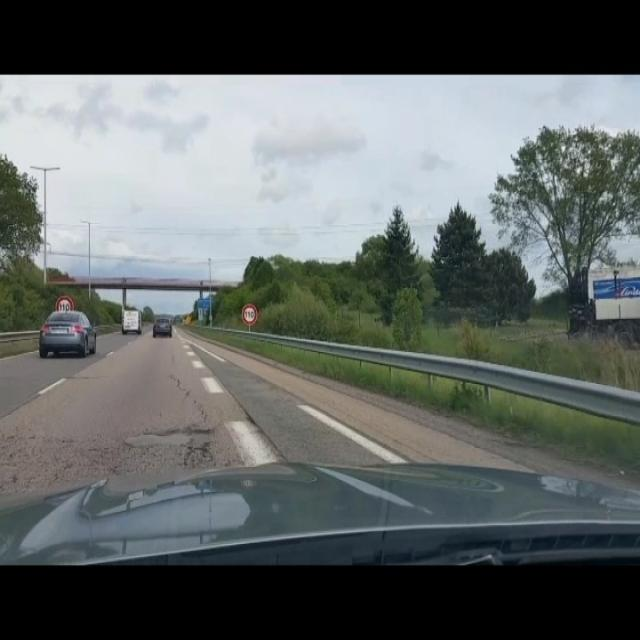speed_110: (242, 302, 258, 327)
